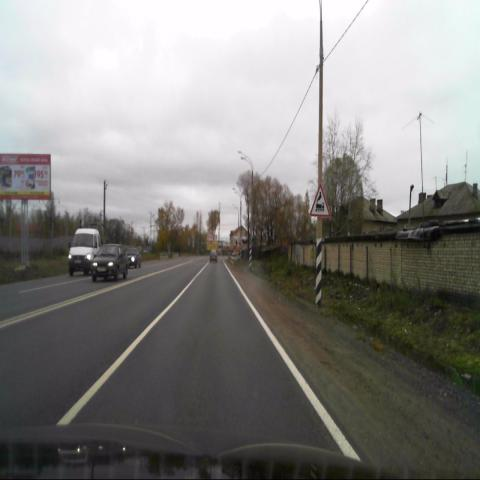1_2: (309, 183, 330, 218)
